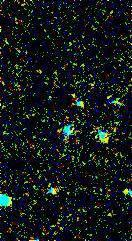star: (110, 178, 132, 208)
